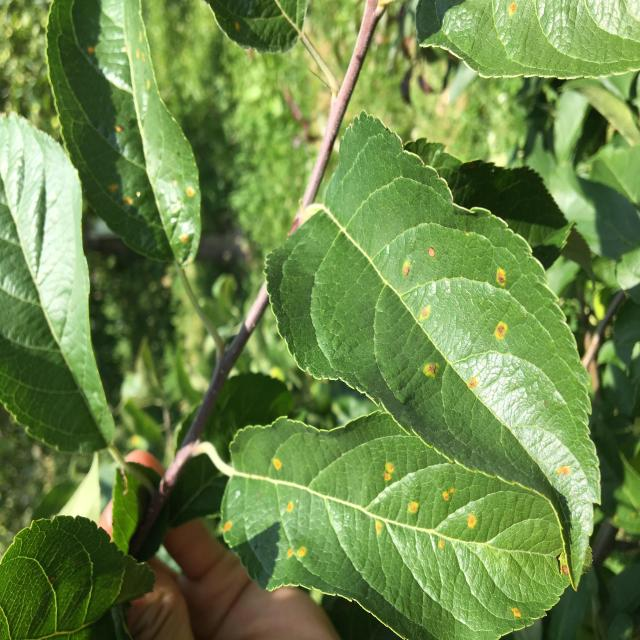Rust: (487, 305, 509, 363), (487, 262, 515, 298), (283, 545, 320, 570), (435, 479, 461, 513), (414, 297, 438, 329), (404, 500, 430, 527), (557, 455, 576, 490), (462, 506, 481, 538), (424, 350, 441, 384), (403, 253, 421, 285), (462, 373, 486, 397), (220, 513, 242, 539), (381, 458, 400, 488), (434, 535, 456, 559), (280, 499, 302, 522), (370, 512, 387, 535), (507, 600, 522, 625), (268, 458, 286, 476)
